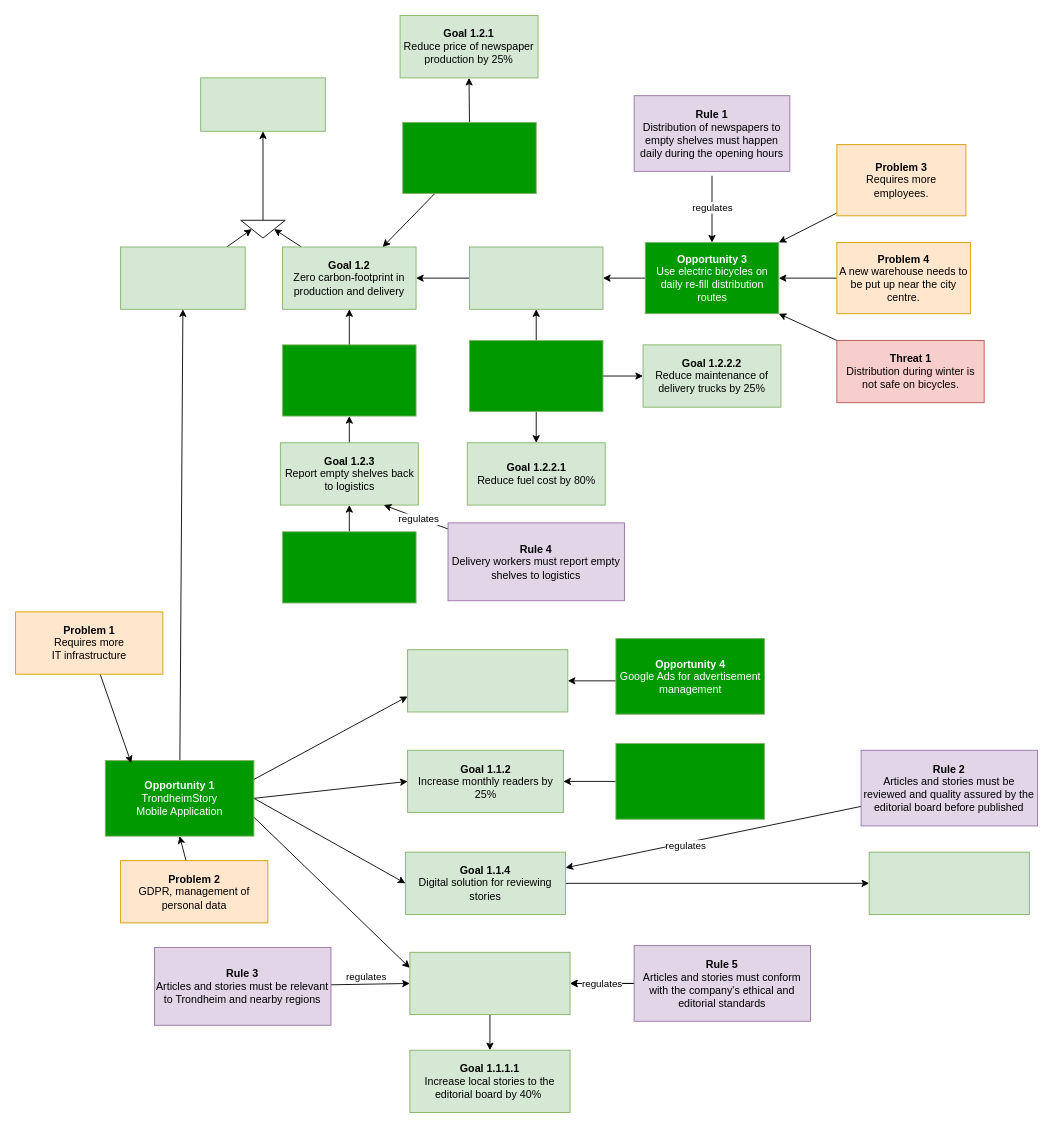
Image size: 1054x1129. Some labels were removed from this diagram. The shapes that lost their labels are listed below. From the top down, each one's centre as x and y in pixels, then its label:
(262,104): Goal 1 Become a zero-carbon business by 2025
(469,157): Opportunity 2 Use recycled paper in newspaper production
(182,277): Goal 1.1 Digital newspaper platform
(536,277): Goal 1.2.2 Zero fossil fueled trucks used in delivery by 2025
(349,380): Opportunity 7 Digital solution for newspaper delivery
(536,376): Opportunity 6 Replace older delivery trucks with electrical trucks
(349,567): Opportunity 8 Predict when shelves need to be filled
(487,680): Goal 1.1.3 Increase advertisement income by 15%
(690,781): Opportunity 5 Attract younger age groups (ages 15-25)
(948,882): Reduce "time to market" for stories by 20%
(489,983): Goal 1.1.1 Digital solution for writing stories
